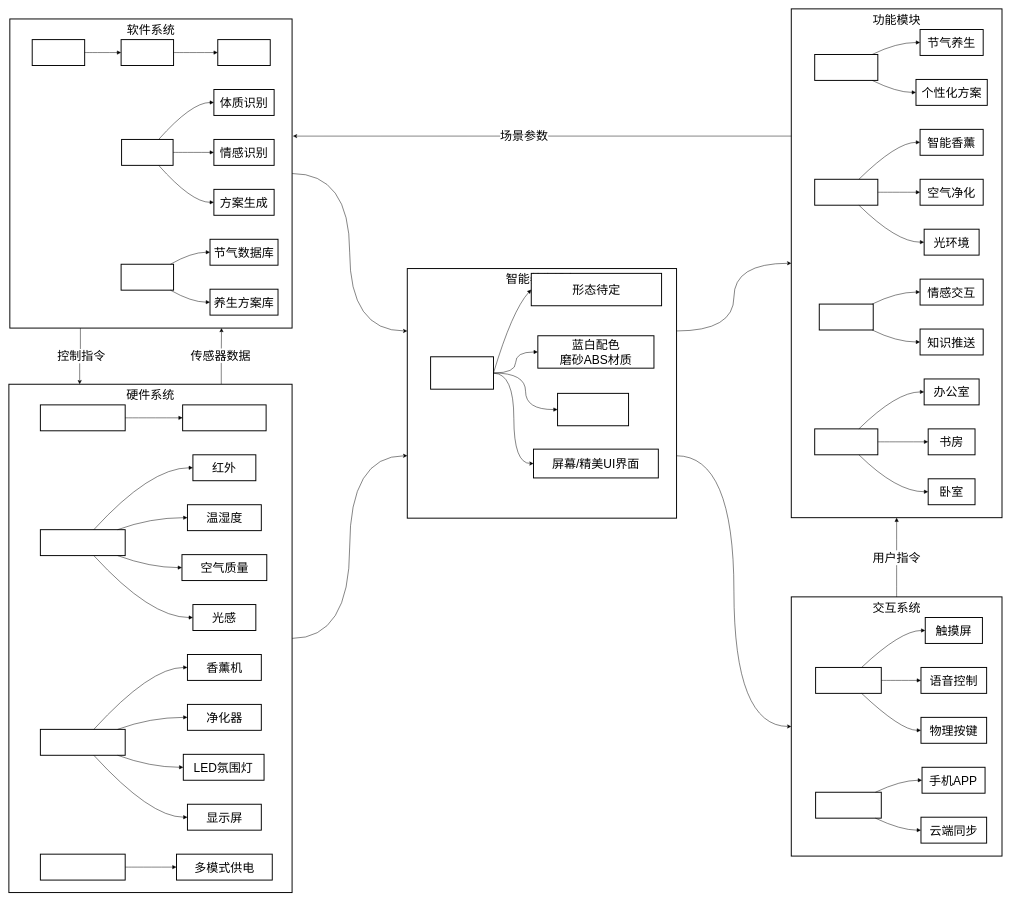
Some shapes in this 1010 by 901 pixel diagram are drawn without their labels. The centre of each missing label's shape, as x and y in pixels:
AI引擎: (147,152)
AI陪伴: (846,316)
STM32F4: (224,417)
中间层: (147,52)
主控芯片: (82,417)
产品主体: (462,372)
传感器组: (82,542)
场景模式: (846,441)
应用层: (243,52)
执行模块: (82,742)
本地交互: (848,680)
核心功能: (846,67)
环境管理: (846,192)
电源管理: (82,866)
知识库: (147,277)
萌系科技风: (593,409)
远程交互: (848,805)
驱动层: (58,52)
